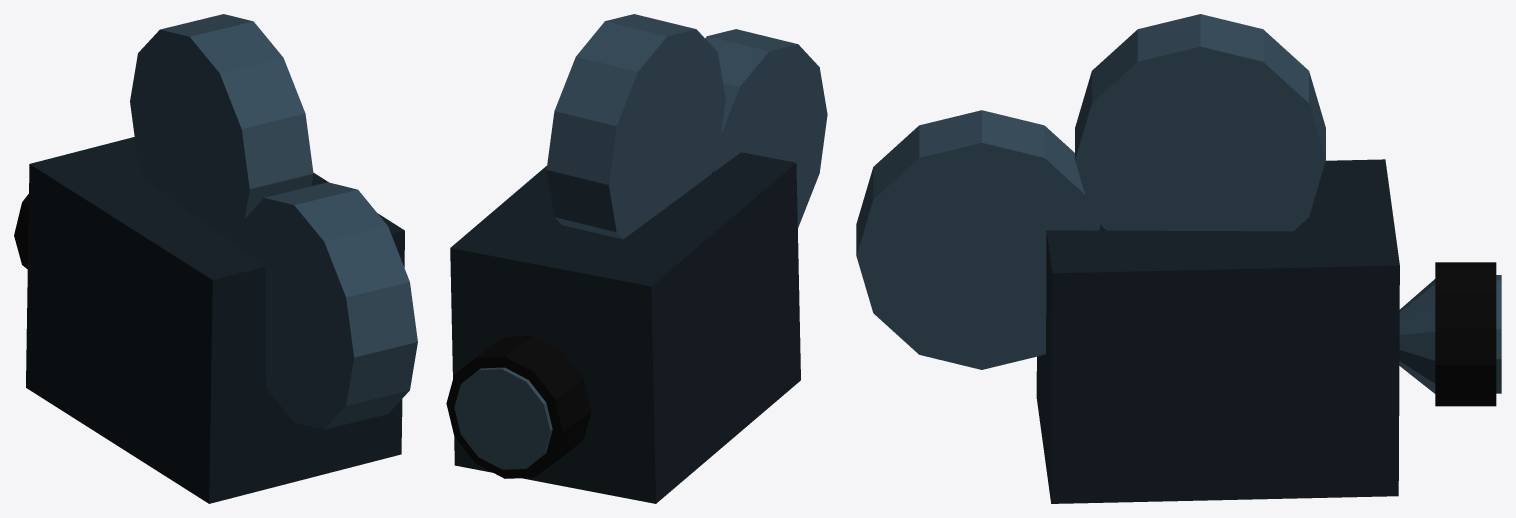
The model's file is camera.obj.
3 renders of one model, left to right at view 1: azimuth 30°, elevation 25°; view 2: azimuth 150°, elevation 25°; view 3: azimuth 270°, elevation 25°, orthographic. The views are drawn at different scales.
Parts seen in each view (by area): view 1: group1064511980, group578873317, group694323100, group1605139574; view 2: group1064511980, group694323100, group578873317, group1605139574, group2000811360; view 3: group1064511980, group694323100, group578873317, group1605139574, group1500837857, group2000811360.
Part boxes in pixels (x1,y1,x2,y2): group1064511980: (26,137,404,503); group578873317: (238,182,417,429); group694323100: (130,14,313,244); group1605139574: (14,194,28,268); group1064511980: (450,152,800,503); group694323100: (546,14,725,239); group578873317: (705,29,827,227); group1605139574: (446,336,591,478); group2000811360: (454,367,552,469); group1064511980: (1036,159,1399,503); group694323100: (1075,14,1325,231); group578873317: (856,110,1099,369); group1605139574: (1435,262,1496,406); group1500837857: (1399,279,1435,393); group2000811360: (1496,275,1501,393).
Bounding box in the file's own units: 0.83 × 1.44 × 2.01.
